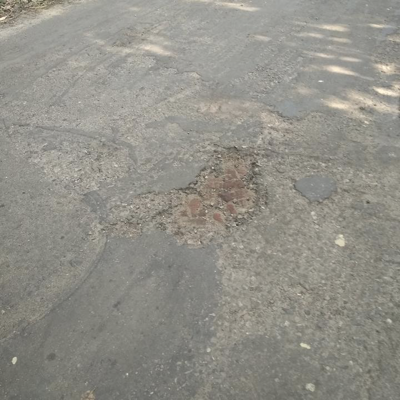pothole: (158, 143, 269, 246)
